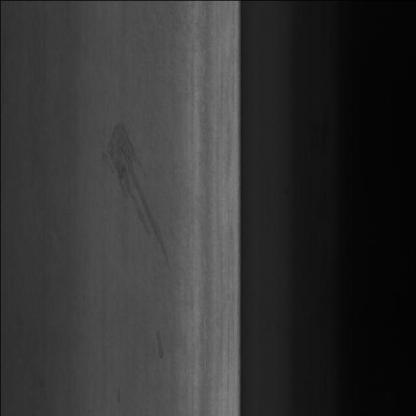water_spot: (93, 107, 174, 280), (153, 328, 168, 365), (111, 381, 124, 405)
